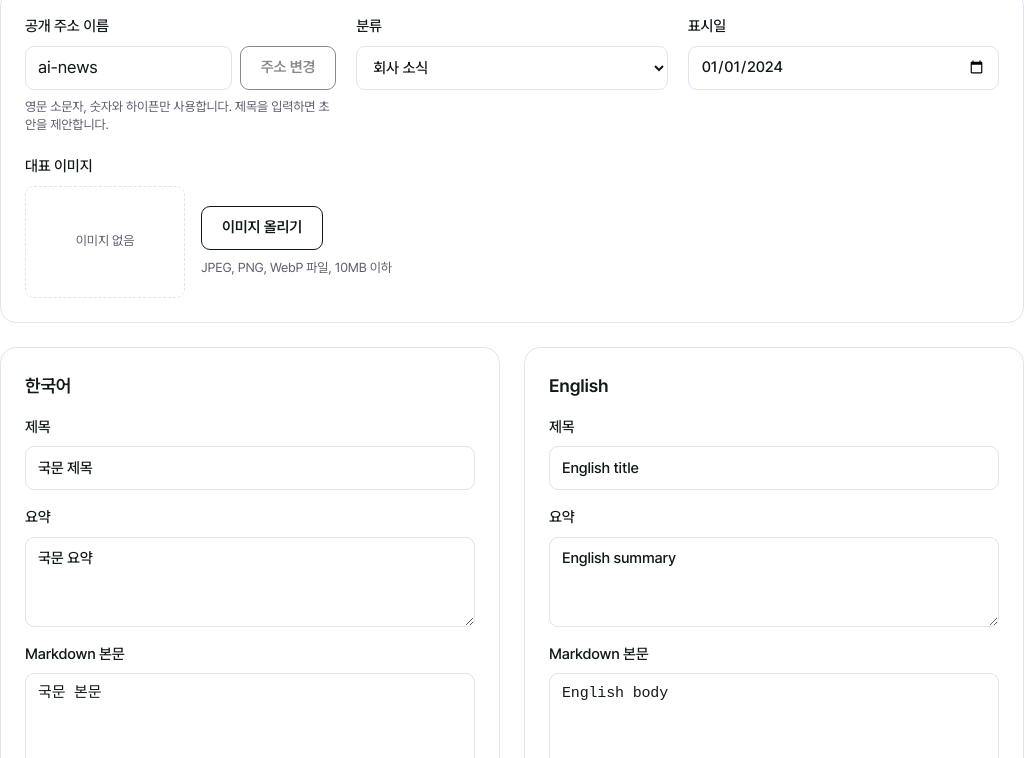
Test: NewsForm 저장 및 게시 검증 › 필드를 바꾸면 저장 전에는 언어별 게시 버튼이 비활성화된다
Replace the text in the field labelled "제목" below "한국어" with "수정된 국문 제목" at (250, 468), box [25,446,475,490]
(page scrolled)
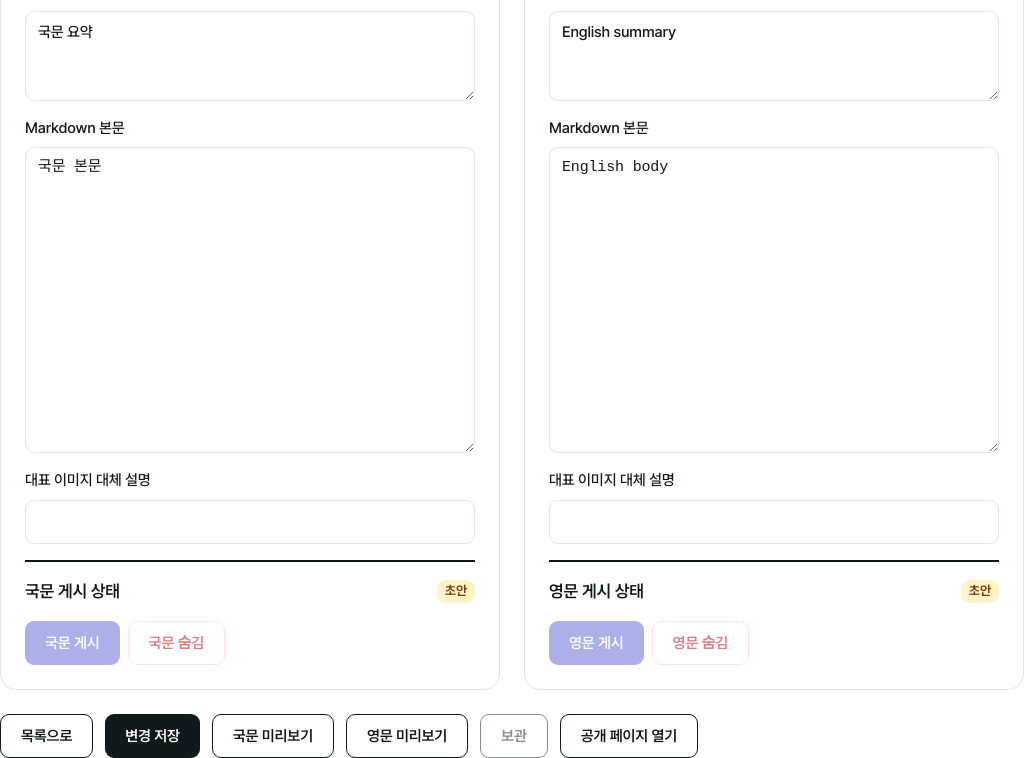
Expected: the button "국문 게시" is disabled, [25,621,120,665]
